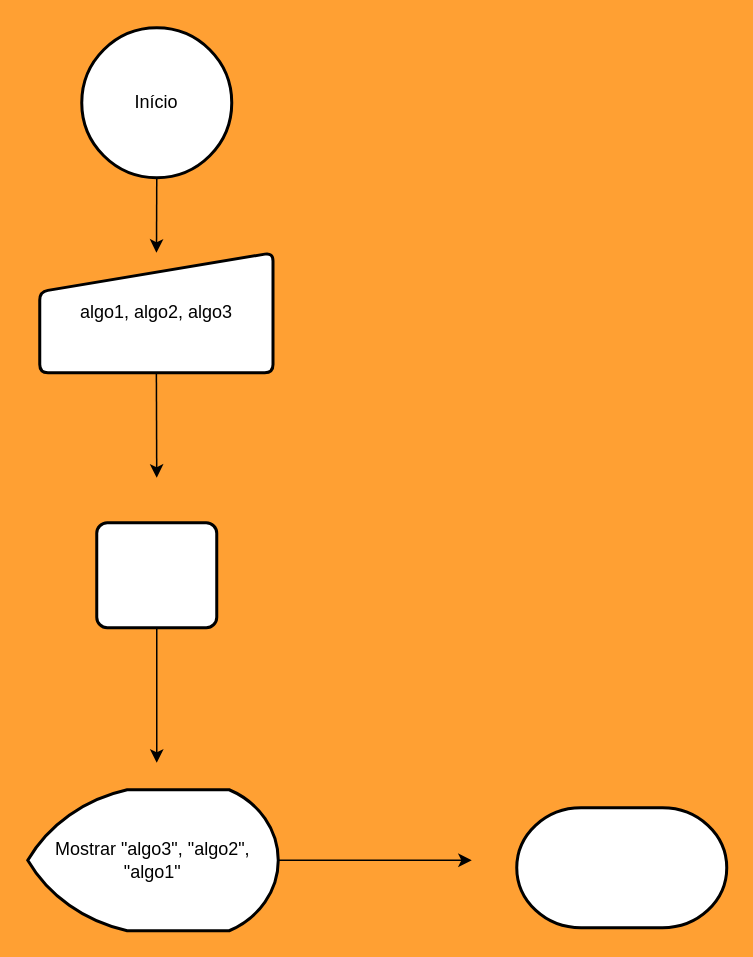
The diagram is 753 pixels wide and 957 high, and some of its shapes have lost their labels. Each missing label, with the centre of its shape:
algo3, algo2, algo1: pixel 156 574
Fim: pixel 621 867
